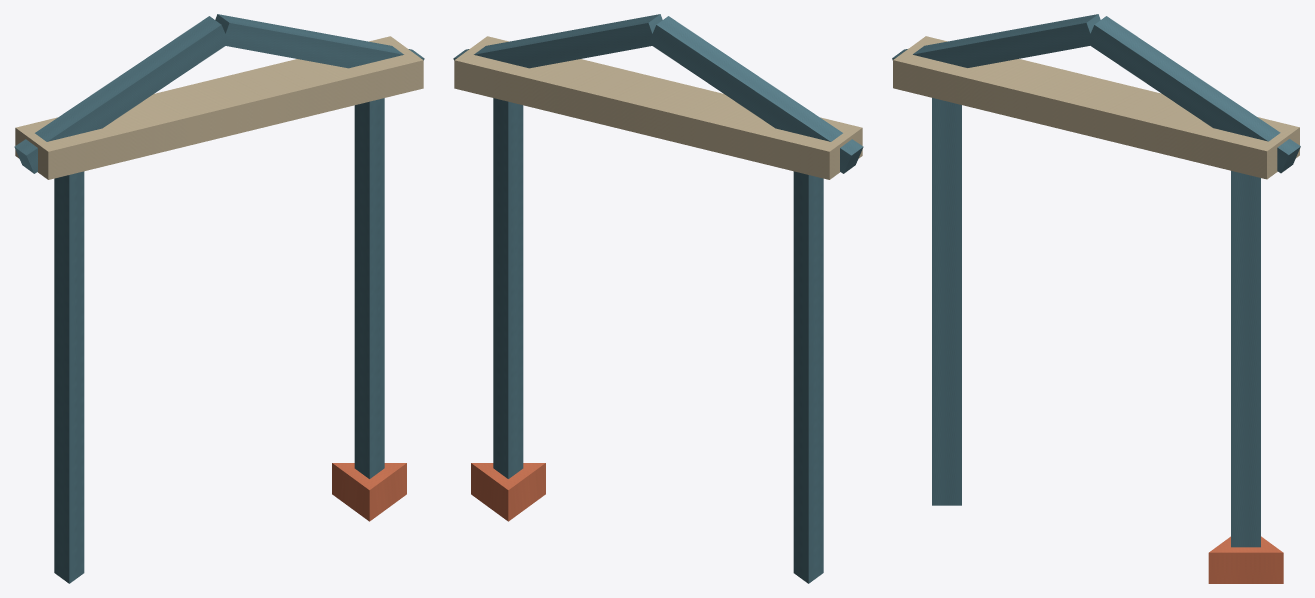
File: atlas100-s041-a09.lod2.glb
The picture shows the model from 3 angles, left to right: view 1: azimuth 30°, elevation 25°; view 2: azimuth 150°, elevation 25°; view 3: azimuth 330°, elevation 25°; orthographic projection.
Parts seen in each view (by area): view 1: atlas100-s041-a09:part-004, atlas100-s041-a09:part-000, atlas100-s041-a09:part-002, atlas100-s041-a09:part-005, atlas100-s041-a09:part-006, atlas100-s041-a09:part-003; view 2: atlas100-s041-a09:part-004, atlas100-s041-a09:part-000, atlas100-s041-a09:part-002, atlas100-s041-a09:part-005, atlas100-s041-a09:part-006, atlas100-s041-a09:part-003; view 3: atlas100-s041-a09:part-004, atlas100-s041-a09:part-000, atlas100-s041-a09:part-002, atlas100-s041-a09:part-006, atlas100-s041-a09:part-005, atlas100-s041-a09:part-003.
Boxes of the visible parts, x1,y1,x2,y2 form: atlas100-s041-a09:part-004: [15, 36, 423, 179]; atlas100-s041-a09:part-000: [54, 171, 84, 583]; atlas100-s041-a09:part-002: [354, 98, 384, 478]; atlas100-s041-a09:part-005: [14, 16, 228, 173]; atlas100-s041-a09:part-006: [215, 14, 424, 68]; atlas100-s041-a09:part-003: [332, 463, 406, 521]; atlas100-s041-a09:part-004: [454, 36, 862, 179]; atlas100-s041-a09:part-000: [793, 171, 823, 583]; atlas100-s041-a09:part-002: [493, 98, 523, 478]; atlas100-s041-a09:part-005: [649, 16, 863, 173]; atlas100-s041-a09:part-006: [453, 14, 662, 68]; atlas100-s041-a09:part-003: [471, 463, 545, 521]; atlas100-s041-a09:part-004: [893, 36, 1299, 179]; atlas100-s041-a09:part-000: [932, 98, 961, 505]; atlas100-s041-a09:part-002: [1231, 171, 1260, 547]; atlas100-s041-a09:part-006: [1087, 16, 1300, 173]; atlas100-s041-a09:part-005: [892, 14, 1100, 67]; atlas100-s041-a09:part-003: [1208, 536, 1283, 583].
Bounding box in the file's own units: 2.65 × 3.31 × 0.433.
3 materials, 3 textured.
